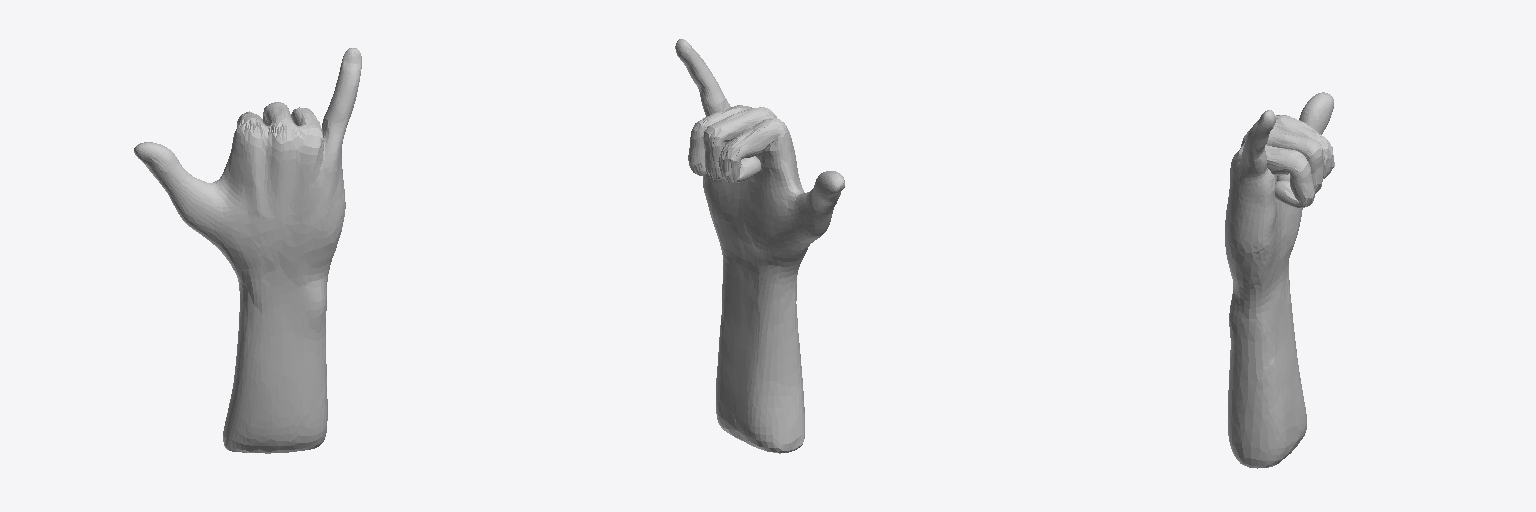
Rendered from mainy.obj.
3 views of the same model, side by side, from view 1: azimuth 30°, elevation 25°; view 2: azimuth 150°, elevation 25°; view 3: azimuth 270°, elevation 25° (orthographic).
Parts seen in each view (by area): view 1: ZBrush_defualt_group; view 2: ZBrush_defualt_group; view 3: ZBrush_defualt_group.
Boxes of the visible parts, x1,y1,x2,y2 form: ZBrush_defualt_group: [134, 48, 361, 453]; ZBrush_defualt_group: [675, 39, 844, 453]; ZBrush_defualt_group: [1225, 92, 1334, 468].
Bounding box in the file's own units: 4.6 × 8.51 × 2.24.